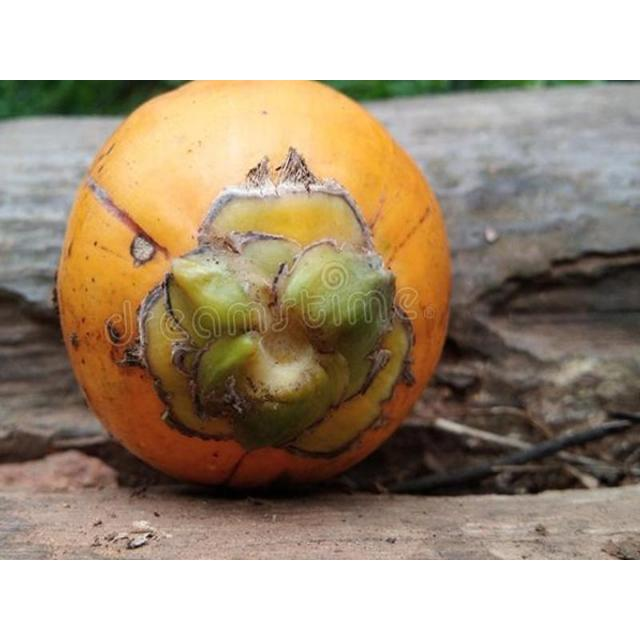good: (54, 80, 452, 495)
